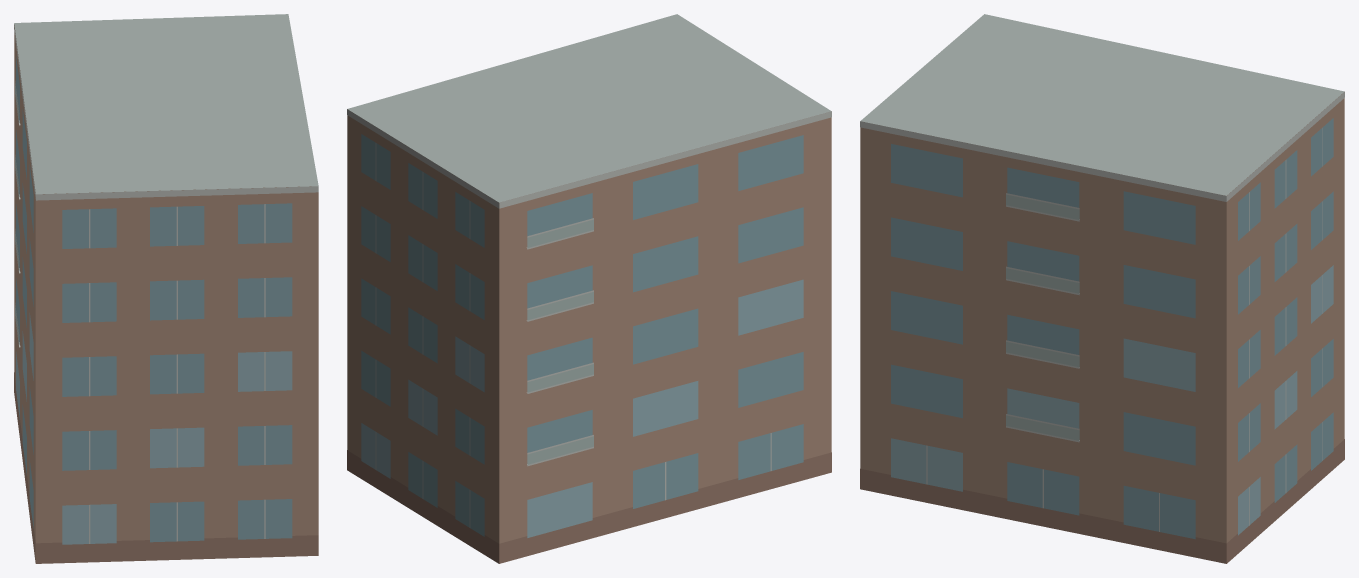
The model's file is survey-upis-32975591.glb.
The picture shows the model from 3 angles, left to right: view 1: azimuth 30°, elevation 25°; view 2: azimuth 150°, elevation 25°; view 3: azimuth 270°, elevation 25°; orthographic projection. The views are drawn at different scales.
Visible parts, largest first — view 1: survey-upis-32975591.tmp; view 2: survey-upis-32975591.tmp; view 3: survey-upis-32975591.tmp.
Part boxes in pixels (x1=…): survey-upis-32975591.tmp: x1=14, y1=14, x2=318, y2=563; survey-upis-32975591.tmp: x1=347, y1=14, x2=831, y2=563; survey-upis-32975591.tmp: x1=860, y1=14, x2=1344, y2=563.
Size of the model in its own units: 15.38 by 14.5 by 17.31.
